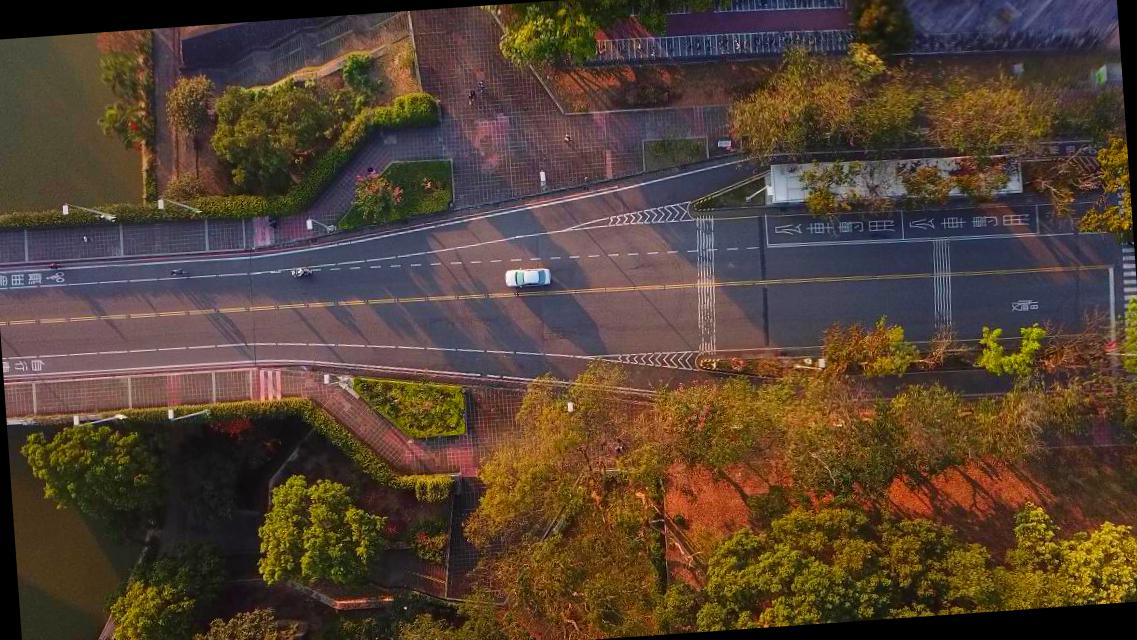vehicle: (503, 264, 552, 288)
